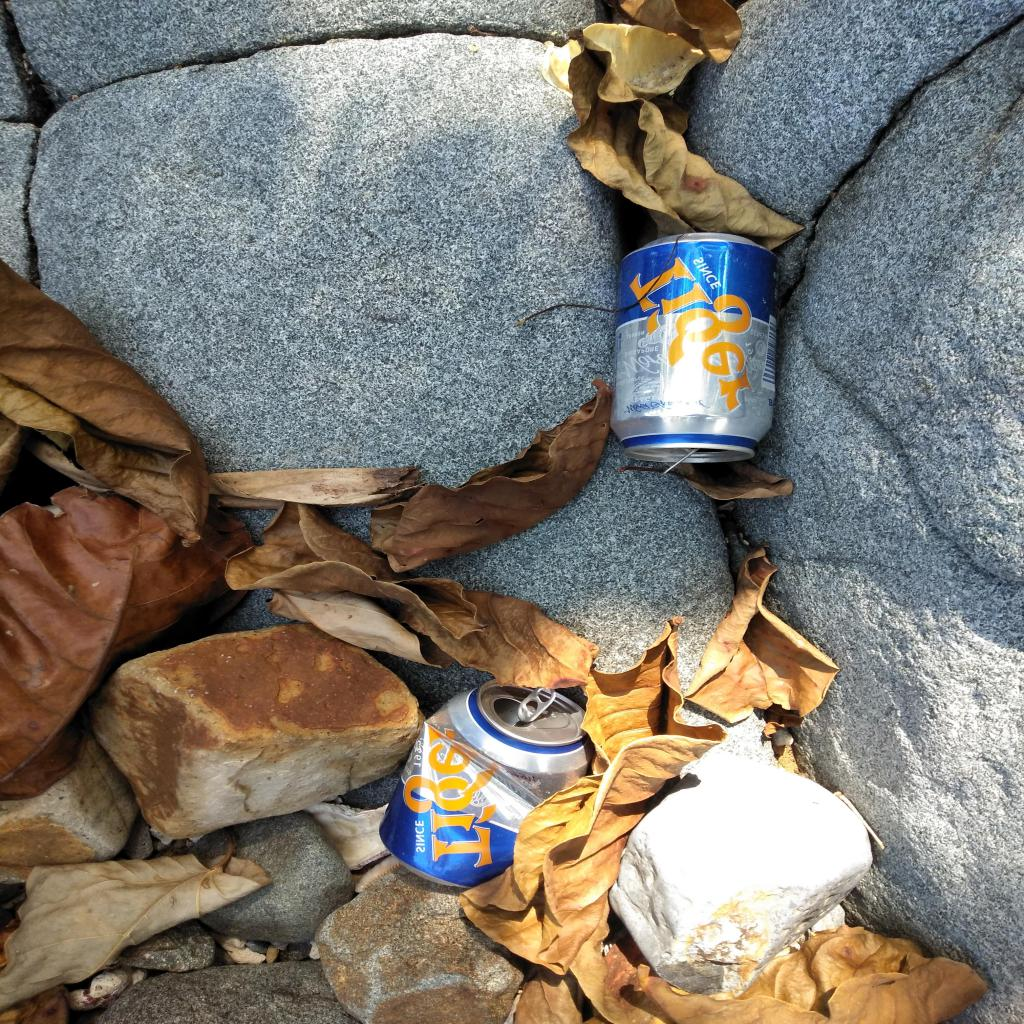Drink can: (380, 678, 594, 888), (610, 232, 780, 462)
Pop tab: (518, 686, 556, 722), (660, 448, 700, 476)
